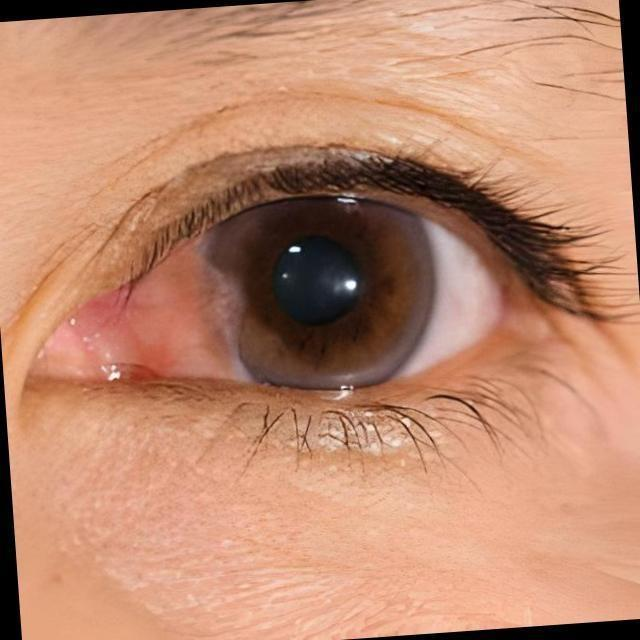Pterygium: (66, 235, 268, 396)
